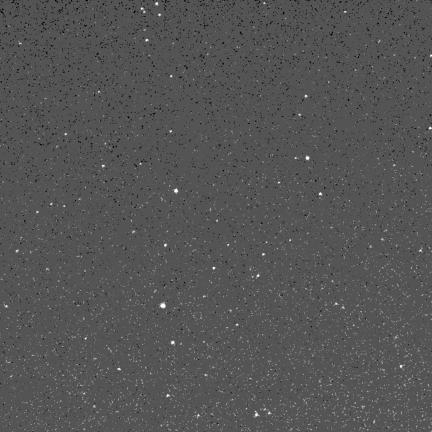blob: (170, 76, 173, 133), (160, 303, 165, 308), (167, 394, 171, 398), (174, 189, 178, 193), (319, 193, 323, 197), (262, 253, 266, 257), (171, 341, 175, 345), (117, 368, 122, 371), (305, 95, 308, 99), (165, 244, 168, 248), (16, 250, 19, 254), (36, 211, 40, 214), (102, 165, 106, 168), (155, 3, 159, 6), (298, 114, 302, 117), (306, 156, 309, 160), (50, 203, 53, 206), (400, 365, 403, 368), (65, 133, 68, 136), (213, 267, 216, 270), (146, 39, 149, 42), (159, 14, 162, 17), (429, 127, 432, 130), (257, 274, 259, 278), (171, 75, 173, 78), (278, 182, 281, 184)
